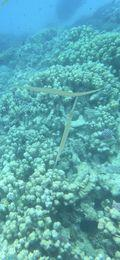Fistularia commersonii: (11, 73, 115, 108), (47, 82, 86, 168)
